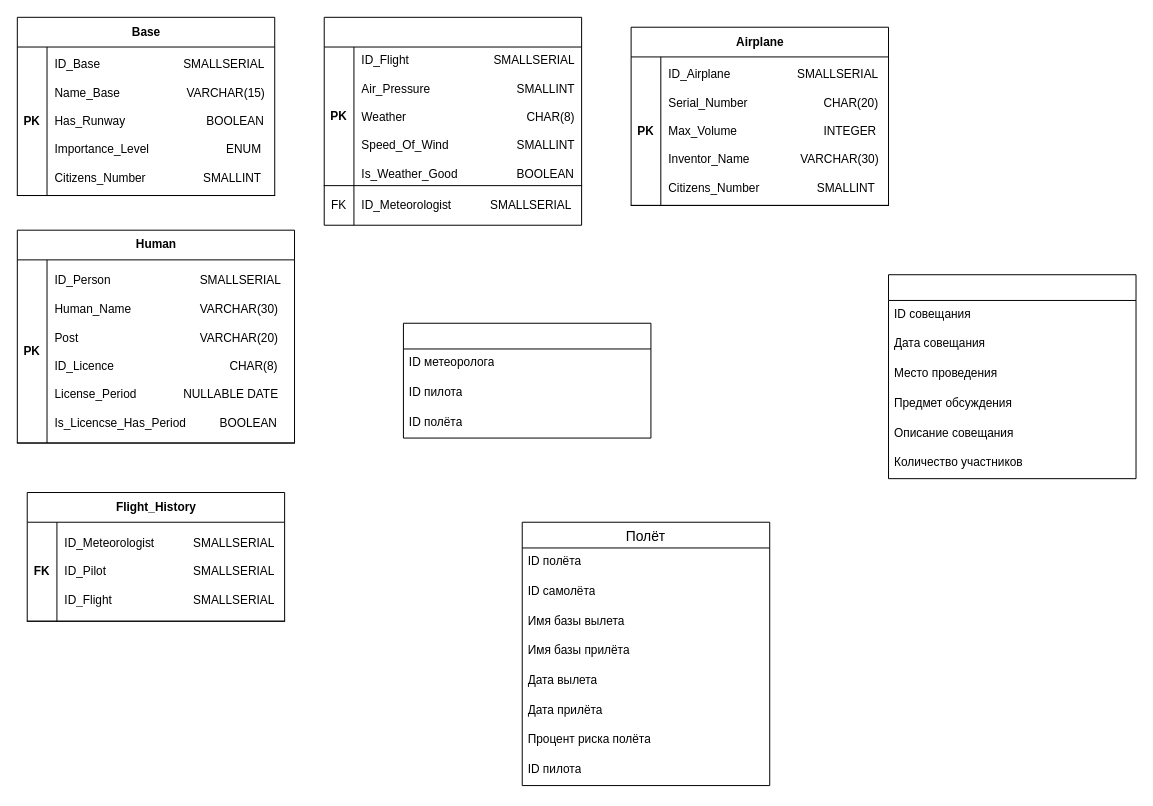
Image size: 1153x806. Some labels were removed from this diagram. Here are the shapes that lost their labels. From the top down, the box of each, then its label:
(323, 16, 582, 225): Meteorological data
(402, 322, 651, 438): История полётов
(888, 274, 1136, 479): Совещание
